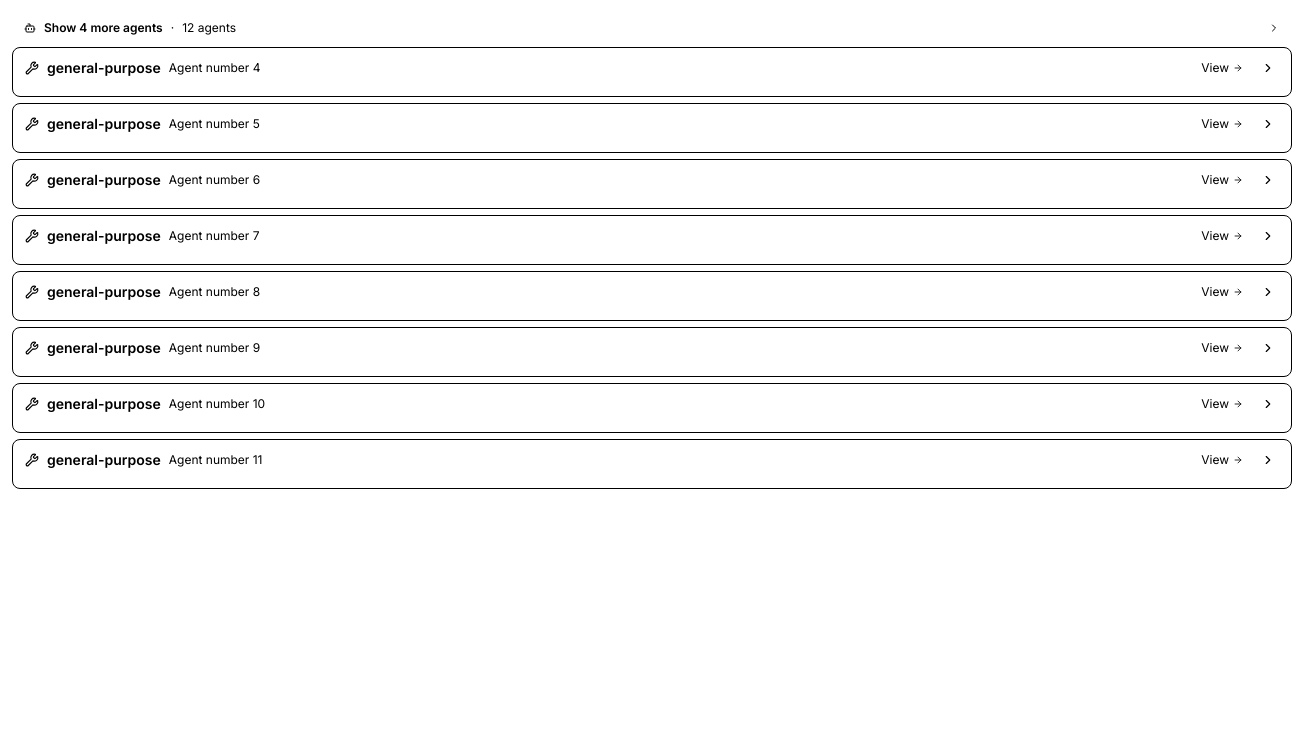
Scenario: ToolCallGroupBlock › keeps the last 8 agent spawns in view and offers the rest
Expected: the text "12 agents" is shown, left=182, top=20, right=236, bottom=35
Expected: the text "Agent number 3" is not shown
Click the button "Show 4 more agents · 12 agents" at (103, 28), box left=12, top=14, right=1292, bottom=41
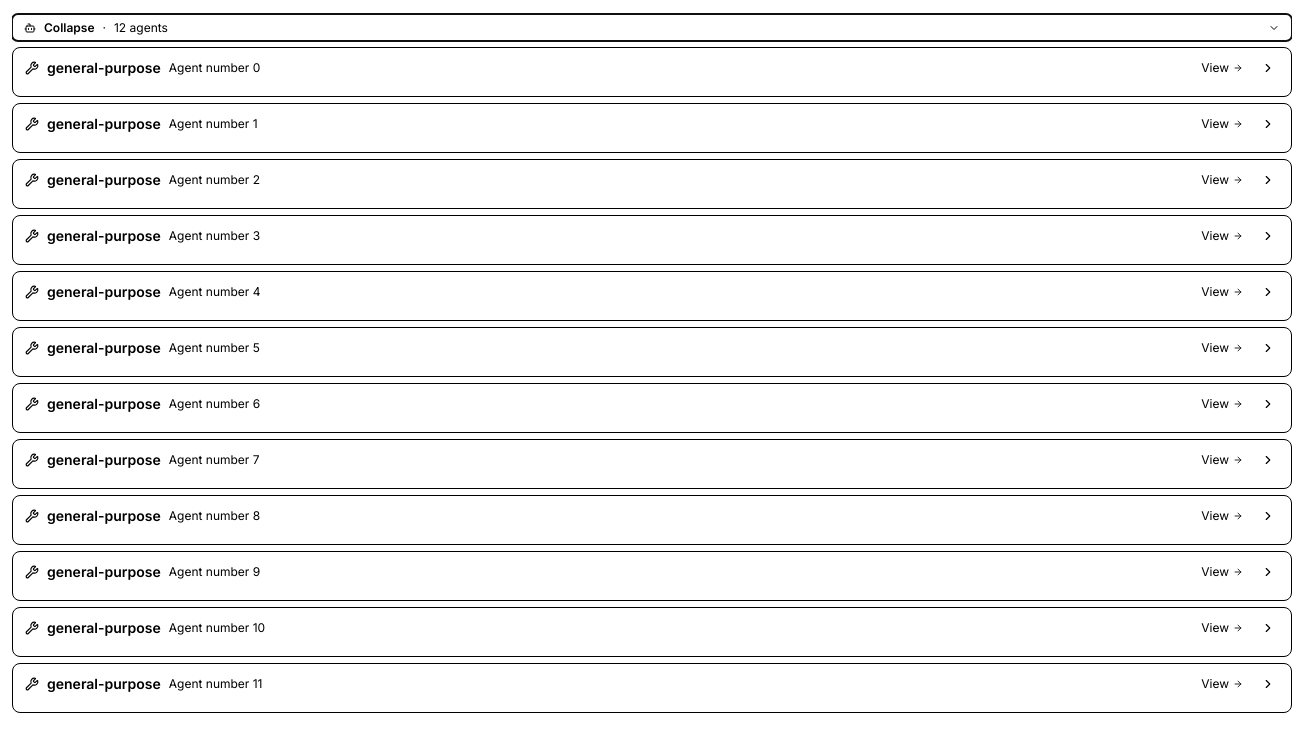
Now the text "Agent number 0" is shown, box left=169, top=60, right=260, bottom=75
